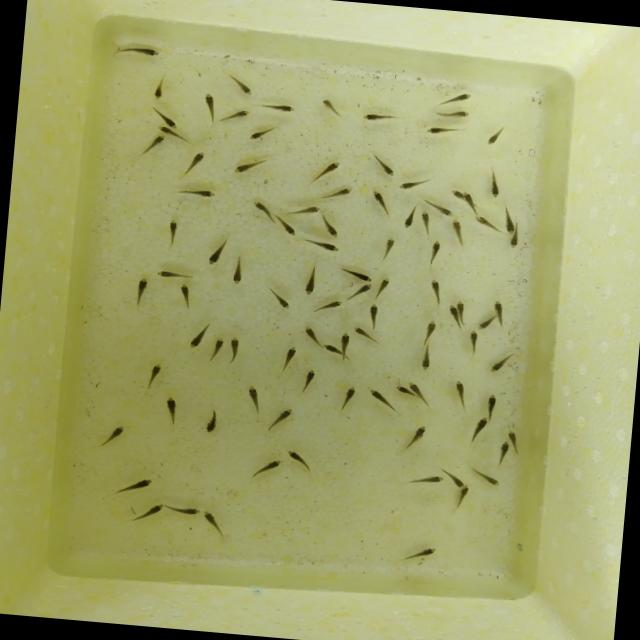fingerling: (111, 39, 166, 62), (306, 156, 346, 187), (230, 150, 270, 178), (248, 454, 284, 484), (399, 540, 444, 564), (274, 341, 305, 375), (113, 474, 155, 499), (125, 499, 165, 525), (96, 420, 128, 452), (200, 236, 233, 266), (225, 253, 252, 289), (396, 171, 436, 195), (266, 404, 296, 436), (183, 320, 211, 354), (240, 381, 268, 415), (469, 463, 504, 490), (427, 104, 474, 124), (196, 89, 222, 125), (178, 148, 206, 181), (433, 86, 475, 108), (197, 508, 230, 536), (366, 188, 396, 218), (402, 422, 432, 452), (284, 446, 316, 474), (485, 350, 519, 376), (317, 182, 355, 205), (418, 122, 466, 140), (404, 470, 447, 490), (482, 167, 508, 200), (173, 184, 220, 202), (480, 122, 510, 150), (142, 359, 168, 391), (161, 391, 184, 427), (359, 107, 398, 128), (300, 264, 324, 298), (309, 296, 346, 318), (297, 365, 323, 396), (205, 332, 228, 367), (466, 412, 491, 444), (150, 266, 199, 282), (366, 385, 393, 414), (226, 72, 256, 98), (146, 105, 183, 126), (448, 377, 472, 409), (264, 285, 292, 312), (138, 132, 168, 157), (364, 300, 386, 334), (200, 402, 222, 436), (252, 98, 298, 114), (336, 384, 359, 416), (174, 280, 198, 310), (130, 275, 154, 305), (219, 105, 253, 126), (162, 216, 184, 248), (350, 326, 382, 348), (162, 500, 203, 517), (367, 154, 396, 178), (284, 200, 322, 218), (302, 237, 342, 254), (344, 279, 372, 303), (448, 217, 468, 250), (398, 204, 420, 234), (491, 438, 513, 468), (148, 75, 173, 101), (377, 235, 400, 263), (248, 199, 276, 222), (246, 125, 279, 144), (471, 215, 504, 234), (318, 96, 344, 120), (424, 237, 444, 268), (464, 328, 484, 359), (225, 331, 242, 366), (372, 275, 394, 302), (338, 266, 375, 282), (416, 345, 436, 374), (426, 276, 444, 308), (298, 324, 324, 346), (480, 390, 500, 417), (318, 218, 344, 238), (499, 206, 517, 234), (419, 318, 438, 344), (491, 297, 508, 326), (276, 218, 300, 238), (446, 468, 466, 488), (418, 208, 432, 236), (432, 202, 456, 218), (474, 314, 494, 332), (462, 190, 477, 213), (338, 328, 353, 348), (320, 342, 340, 356), (158, 124, 181, 135), (393, 384, 410, 396), (448, 187, 462, 200), (507, 234, 520, 248), (407, 380, 422, 392), (446, 304, 458, 318), (454, 296, 466, 310), (506, 429, 518, 442)
